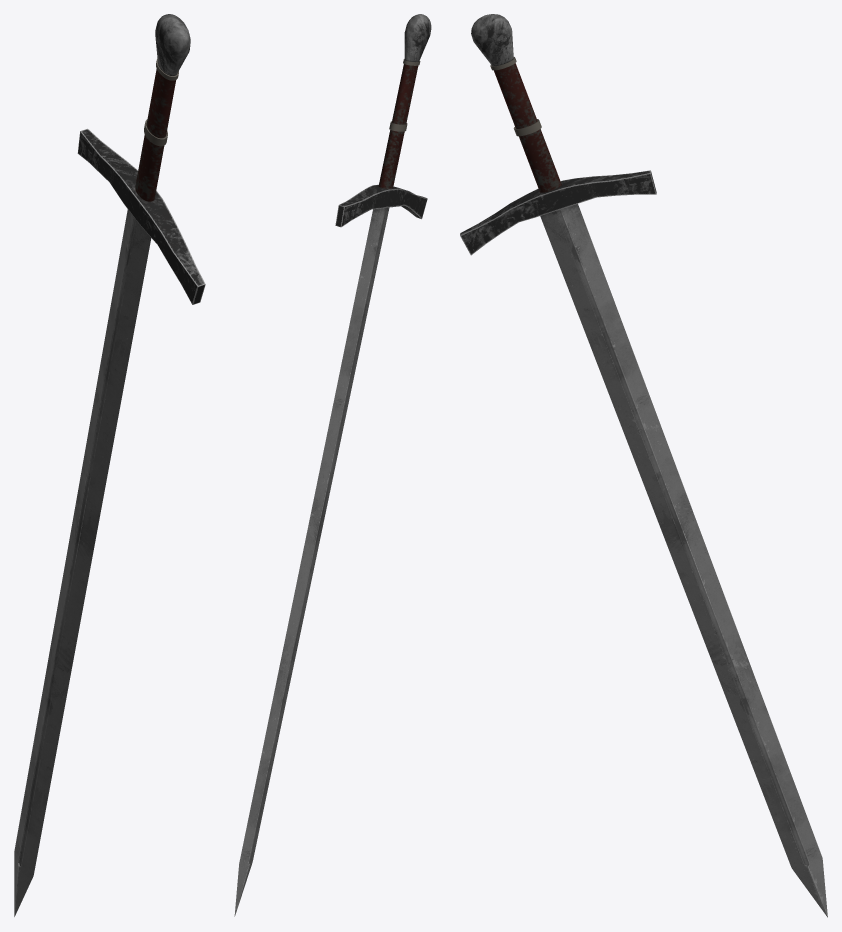
File: CAVALLER DEFINITIU.fbx
3 views of the same model, side by side, from view 1: azimuth 30°, elevation 25°; view 2: azimuth 150°, elevation 25°; view 3: azimuth 270°, elevation 25° (orthographic). The views are drawn at different scales.
Visible parts, largest first — view 1: SWORD; view 2: SWORD; view 3: SWORD.
Boxes of the visible parts, x1,y1,x2,y2 form: SWORD: (14,14,205,916); SWORD: (234,14,431,916); SWORD: (460,14,827,917).
Bounding box in the file's own units: 6 × 106 × 39.87.
